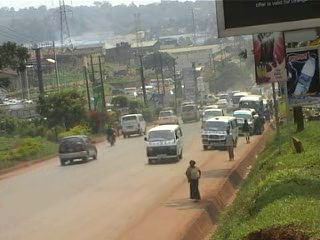Car: (54, 131, 99, 166), (156, 108, 180, 125), (218, 98, 230, 107)
Motorcycle: (107, 135, 117, 147)
